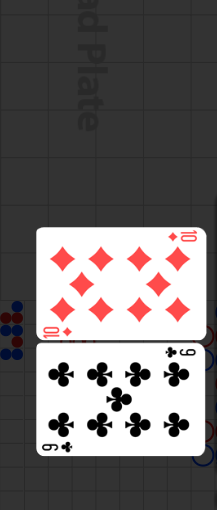10D: (166, 230, 198, 243)
9C: (41, 439, 75, 453)
